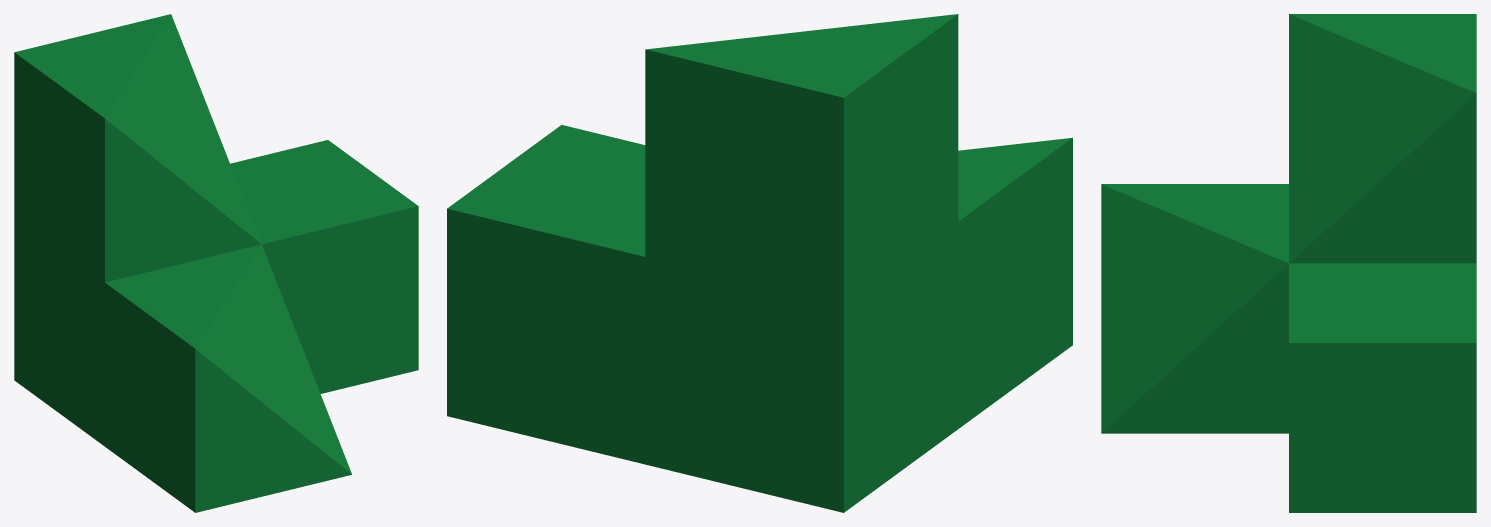
Rendered from vista_1.glb.
3 views of the same model, side by side, from view 1: azimuth 30°, elevation 25°; view 2: azimuth 150°, elevation 25°; view 3: azimuth 270°, elevation 25° (orthographic). The views are drawn at different scales.
Visible parts, largest first — view 1: Object_2; view 2: Object_2; view 3: Object_2.
Part boxes in pixels (x1=…): Object_2: x1=14, y1=14, x2=418, y2=512; Object_2: x1=447, y1=14, x2=1072, y2=512; Object_2: x1=1101, y1=14, x2=1476, y2=512.
Bounding box in the file's own units: 40 × 40 × 40.
